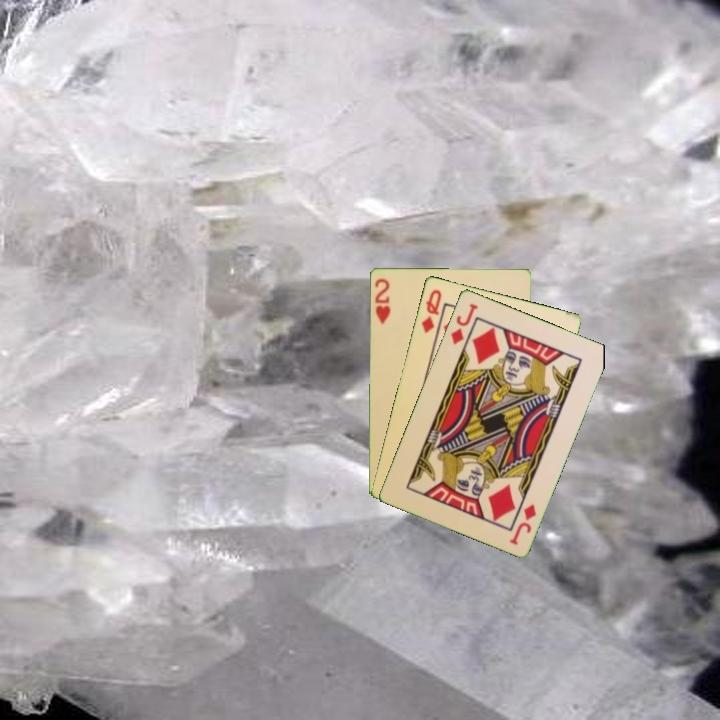2h: (371, 275, 393, 327)
Jd: (447, 299, 480, 348), (506, 500, 539, 547)
Qd: (417, 285, 444, 336)
